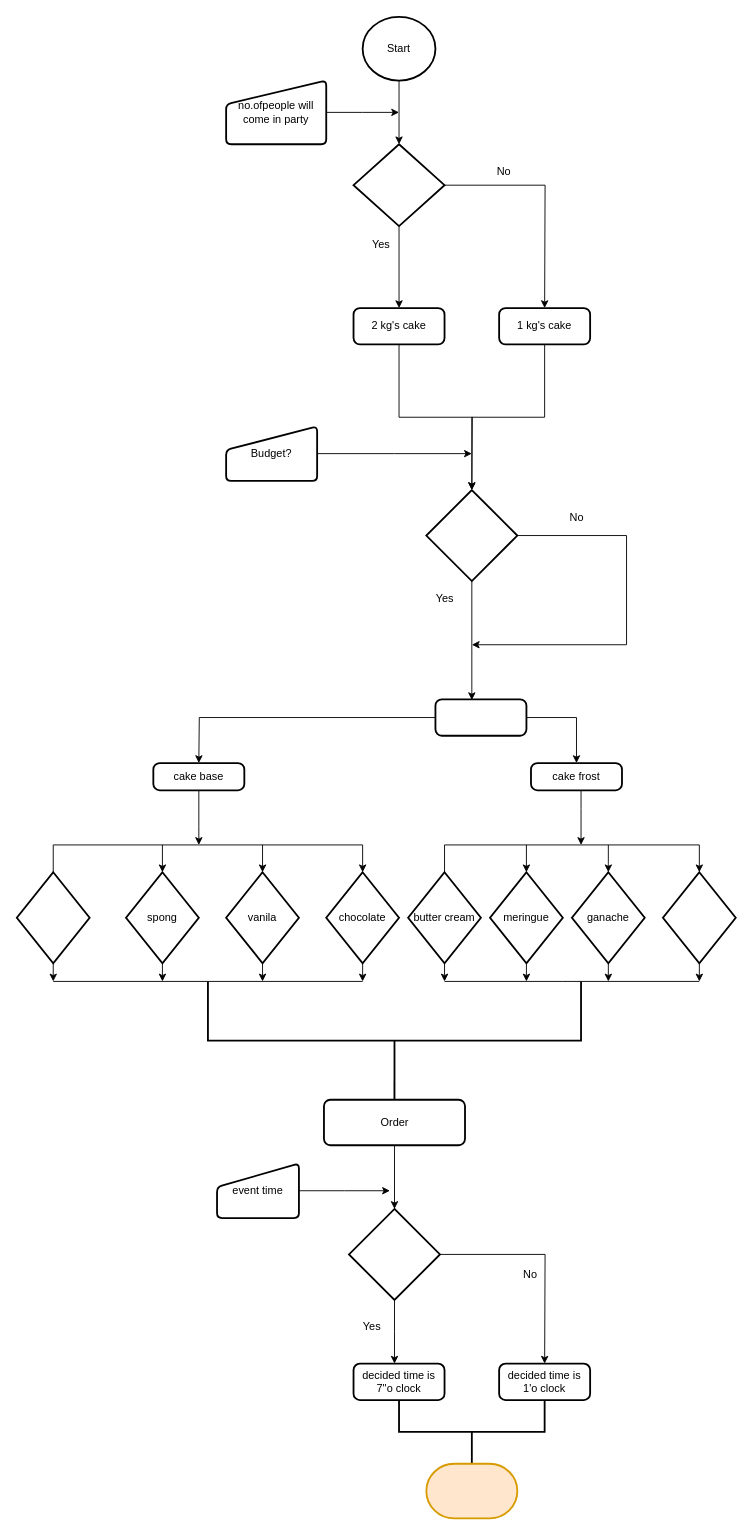
Image size: 752x1534. Some labels were removed from this diagram. The shapes that lost their labels are listed below. From the top down, each one's centre as x and y in pixels, then its label:
point (398, 185): is count more than 15?
point (471, 535): upto 1500?
point (480, 717): decide the shop
point (52, 917): pineapple
point (699, 917): cream cheese
point (394, 1254): is in night?
point (471, 1490): ordered
